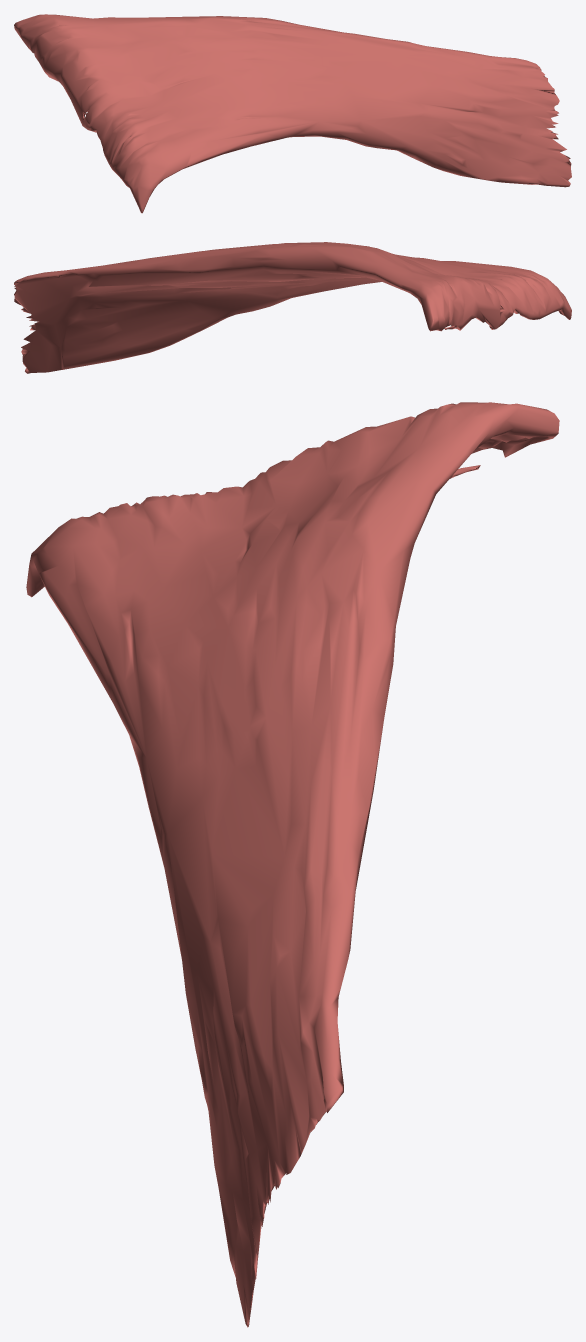
The picture shows the model from 3 angles, top to bottom: view 1: azimuth 30°, elevation 25°; view 2: azimuth 150°, elevation 25°; view 3: azimuth 270°, elevation 25°; orthographic projection. The views are drawn at different scales.
Parts seen in each view (by area): view 1: 左侧斜方肌横部; view 2: 左侧斜方肌横部; view 3: 左侧斜方肌横部.
Part boxes in pixels (x1=…): 左侧斜方肌横部: x1=14, y1=14, x2=571, y2=213; 左侧斜方肌横部: x1=14, y1=242, x2=571, y2=373; 左侧斜方肌横部: x1=26, y1=402, x2=559, y2=1327.
Size of the model in its own units: 0.2538 by 0.118 by 0.1196.
